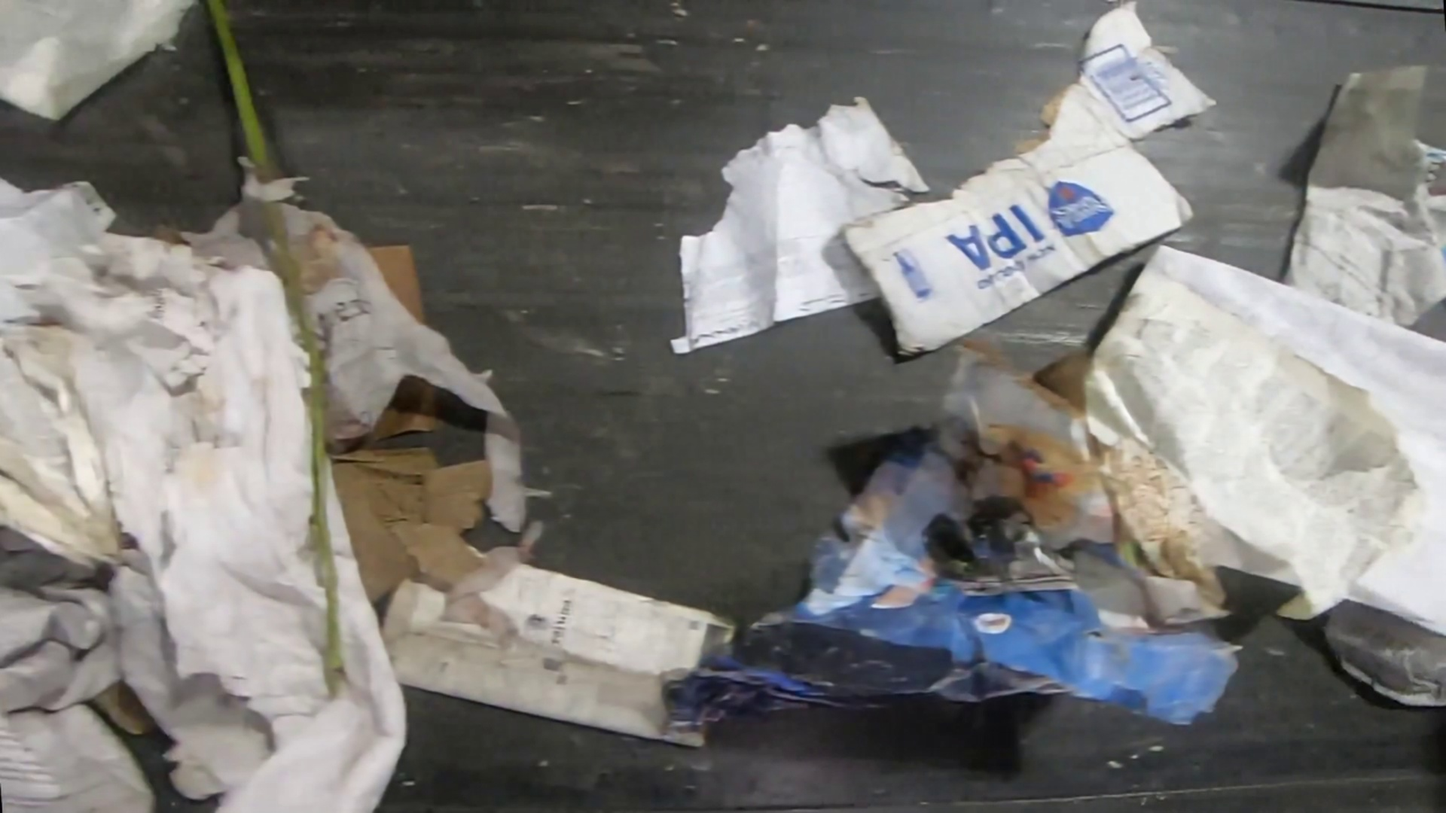cardboard: (844, 6, 1216, 357), (935, 336, 1235, 631), (329, 446, 497, 602), (364, 372, 447, 446), (363, 243, 425, 328)
